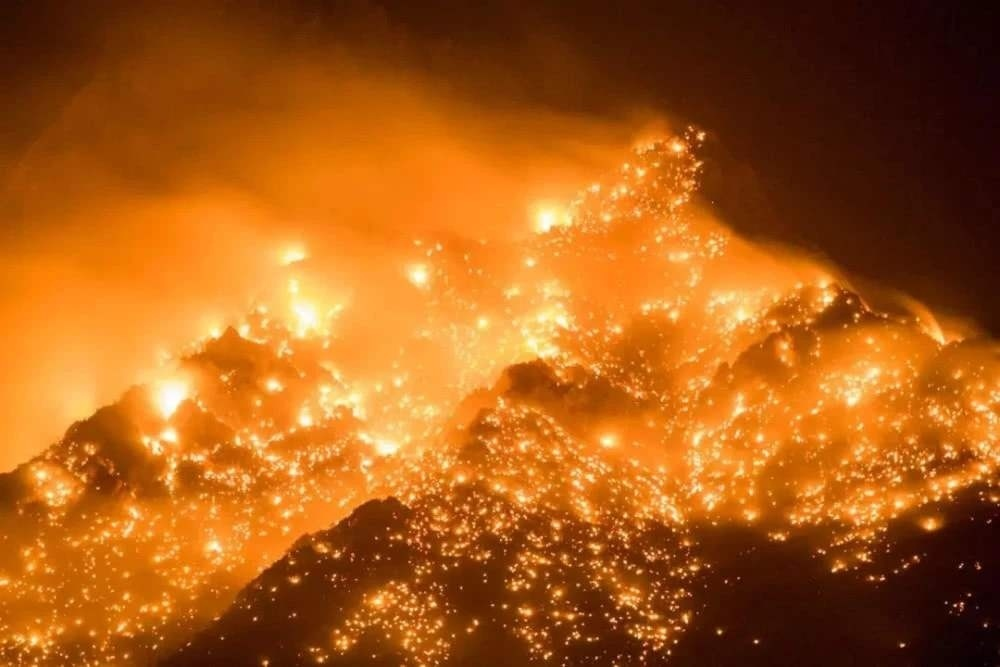fire: (52, 137, 1000, 663)
